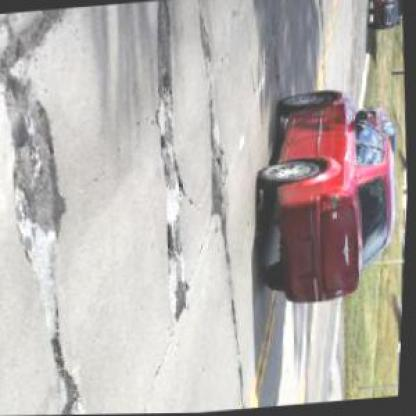pothole: (0, 75, 78, 247), (148, 1, 183, 156), (205, 121, 237, 222), (165, 223, 183, 264)
